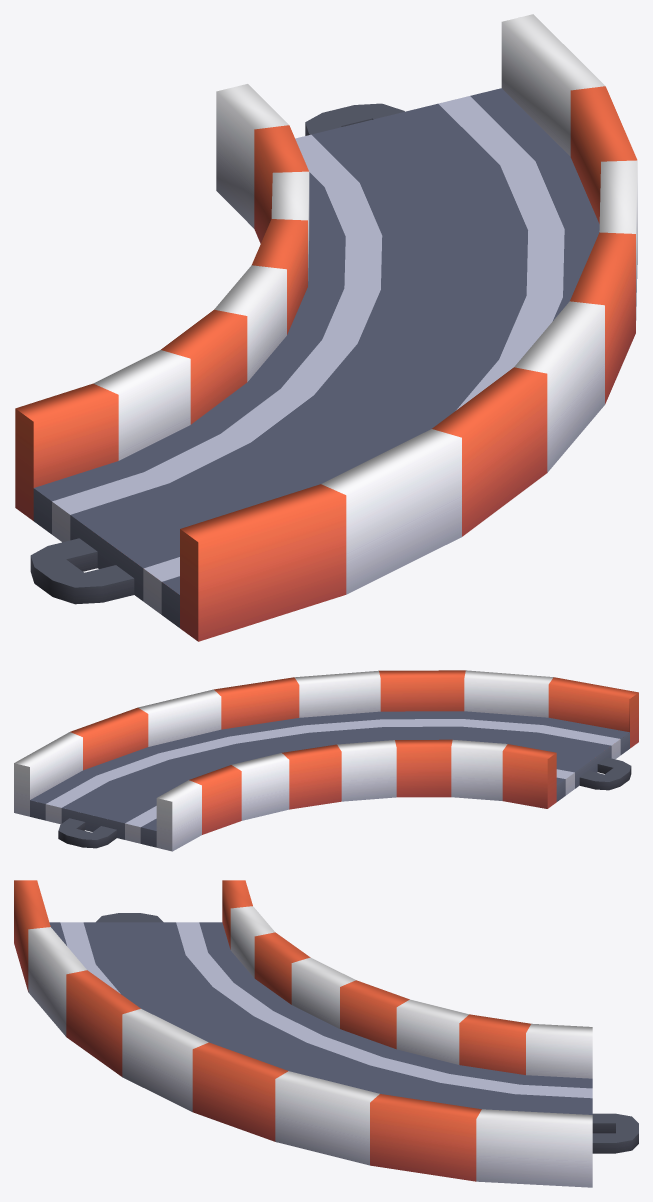
Rendered from kenney-toy-car-track-road-narrow-corner-small.glb.
3 renders of one model, top to bottom at view 1: azimuth 30°, elevation 25°; view 2: azimuth 150°, elevation 25°; view 3: azimuth 270°, elevation 25°, orthographic. The views are drawn at different scales.
Parts seen in each view (by area): view 1: track-road-narrow-corner-small; view 2: track-road-narrow-corner-small; view 3: track-road-narrow-corner-small.
Part boxes in pixels (bbox=[...]): track-road-narrow-corner-small: bbox=[15, 14, 637, 641]; track-road-narrow-corner-small: bbox=[14, 670, 638, 851]; track-road-narrow-corner-small: bbox=[14, 880, 638, 1187].
Bounding box in the file's own units: 2.7 × 0.2999 × 2.7.
1 material, 1 textured.
